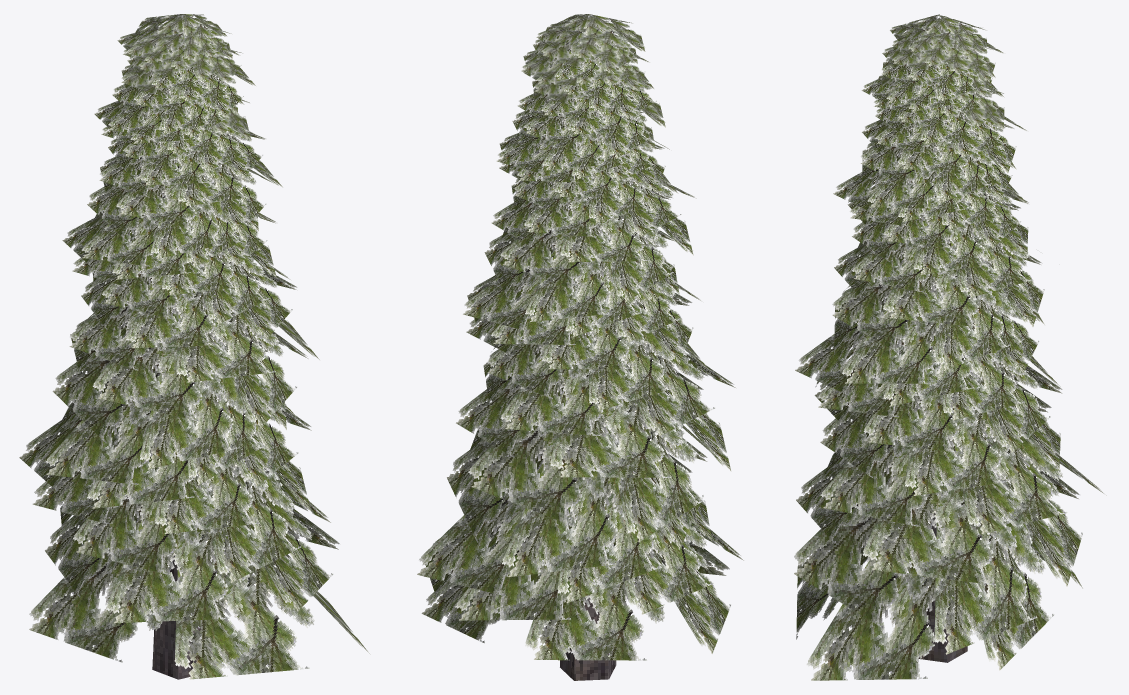
Rendered from tree.glb.
3 views of the same model, side by side, from view 1: azimuth 30°, elevation 25°; view 2: azimuth 150°, elevation 25°; view 3: azimuth 270°, elevation 25° (orthographic). The views are drawn at different scales.
Parts seen in each view (by area): view 1: tree; view 2: tree; view 3: tree.
Boxes of the visible parts, x1,y1,x2,y2 form: tree: (19, 14, 370, 679); tree: (417, 14, 743, 680); tree: (794, 14, 1106, 680).
Size of the model in its own units: 6.09 by 12.08 by 5.74.
2 materials, 2 textured.
